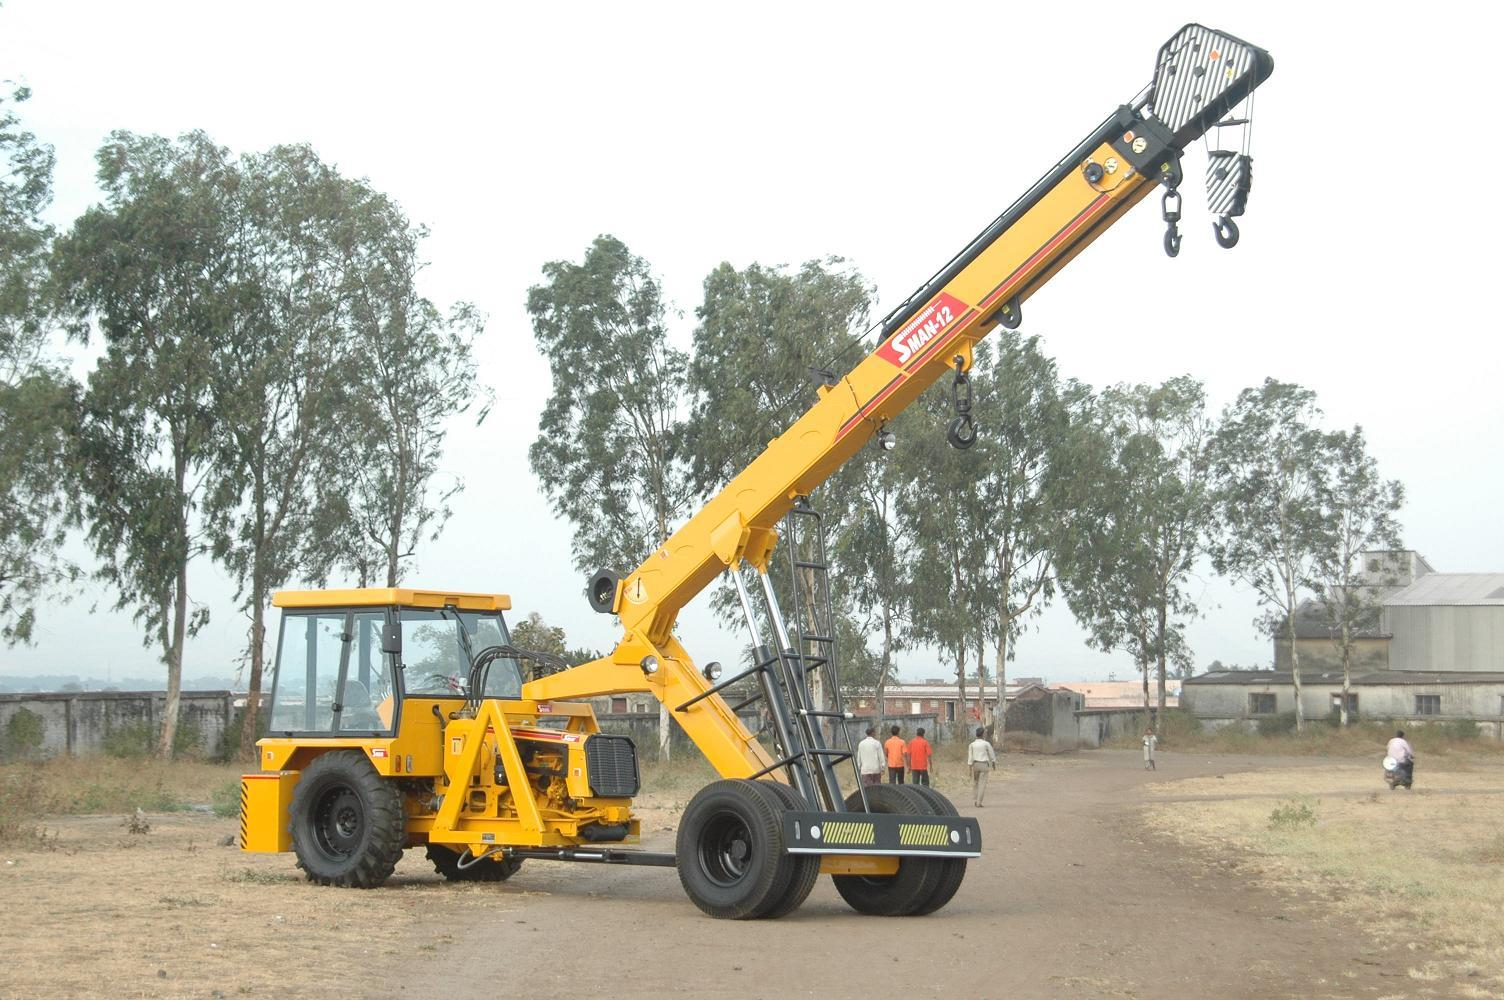crane: (231, 13, 1283, 930)
